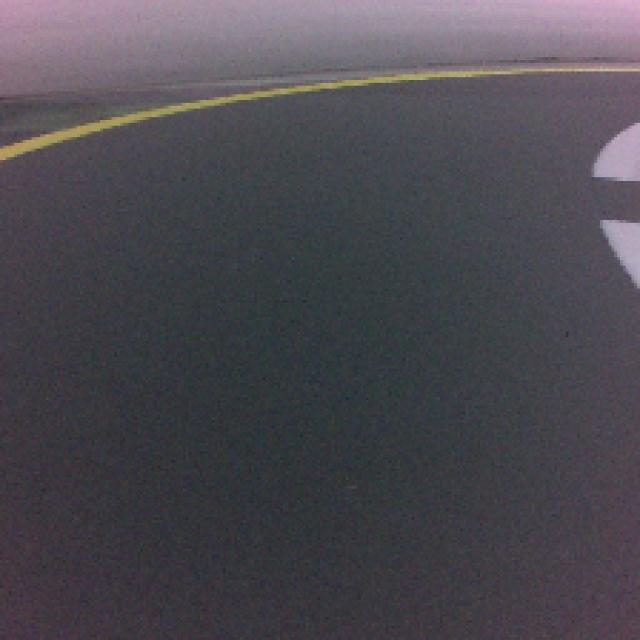Road: (3, 292, 640, 640)
